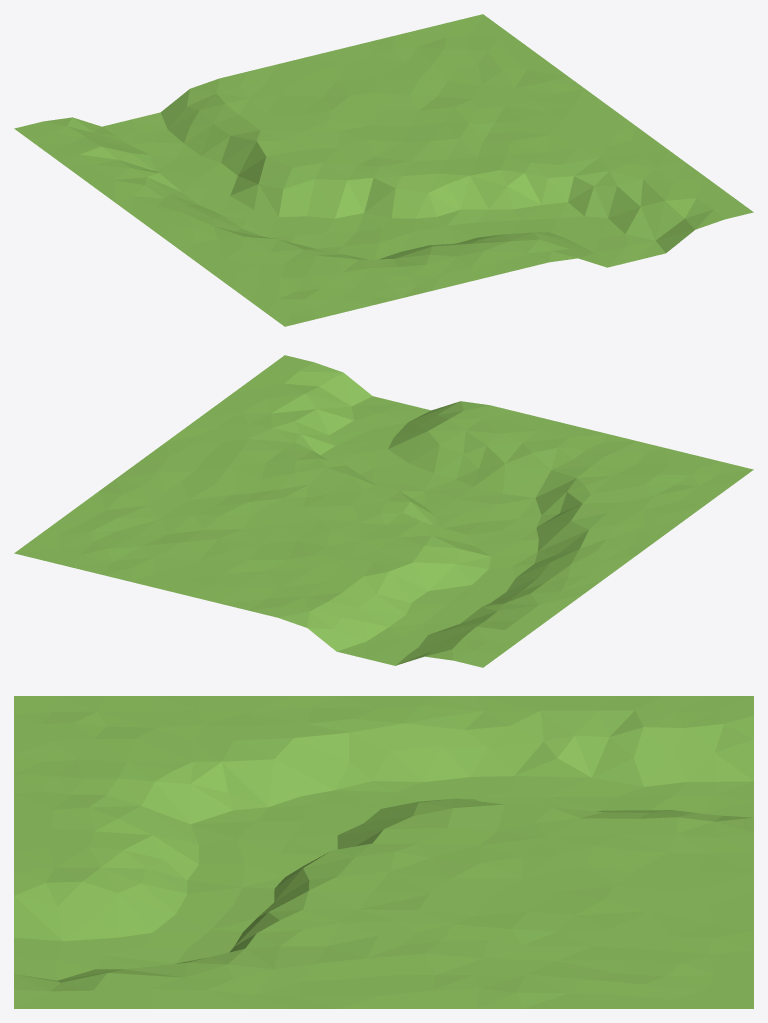
File: MT_River_M_c_03_R.fbx
3 views of the same model, one above another, from view 1: azimuth 30°, elevation 25°; view 2: azimuth 150°, elevation 25°; view 3: azimuth 270°, elevation 25° (orthographic). The views are drawn at different scales.
Visible parts, largest first — view 1: MT_River_M_c_03_R; view 2: MT_River_M_c_03_R; view 3: MT_River_M_c_03_R.
Boxes of the visible parts, bbox=[...] form: MT_River_M_c_03_R: bbox=[14, 14, 753, 326]; MT_River_M_c_03_R: bbox=[14, 355, 753, 667]; MT_River_M_c_03_R: bbox=[14, 696, 753, 1008].
Size of the model in its own units: 5000 by 227 by 5000.
